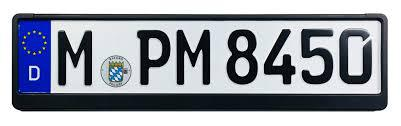0: (338, 27, 374, 85)
4: (263, 28, 296, 85)
5: (300, 28, 334, 85)
8: (225, 28, 260, 86)
M: (55, 30, 98, 87), (175, 28, 213, 87)
P: (135, 30, 172, 86)
